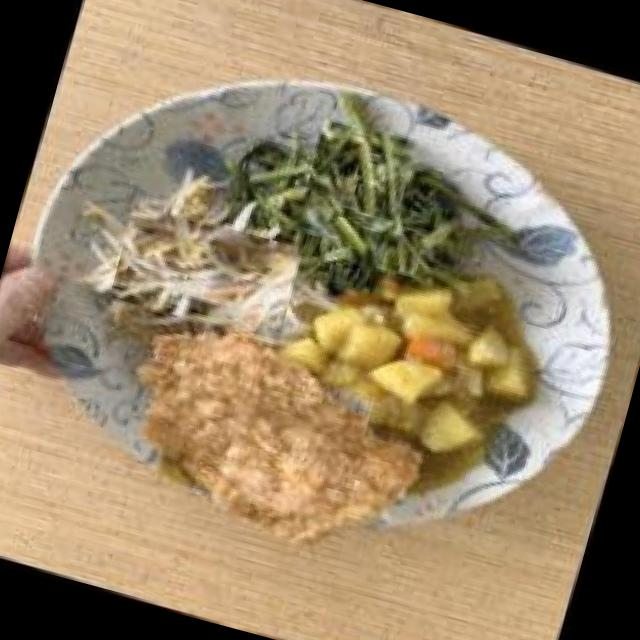curry: (317, 280, 515, 434)
fried_chicken: (146, 343, 382, 536)
mung_bean_sprouts: (102, 196, 310, 354)
water_spinach: (264, 123, 436, 294)
